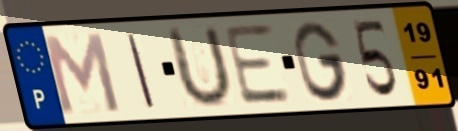5: (349, 18, 401, 99)
E: (220, 21, 295, 108)
G: (291, 18, 352, 103)
I: (124, 31, 158, 110)
M: (37, 30, 125, 116)
U: (166, 23, 235, 112)
